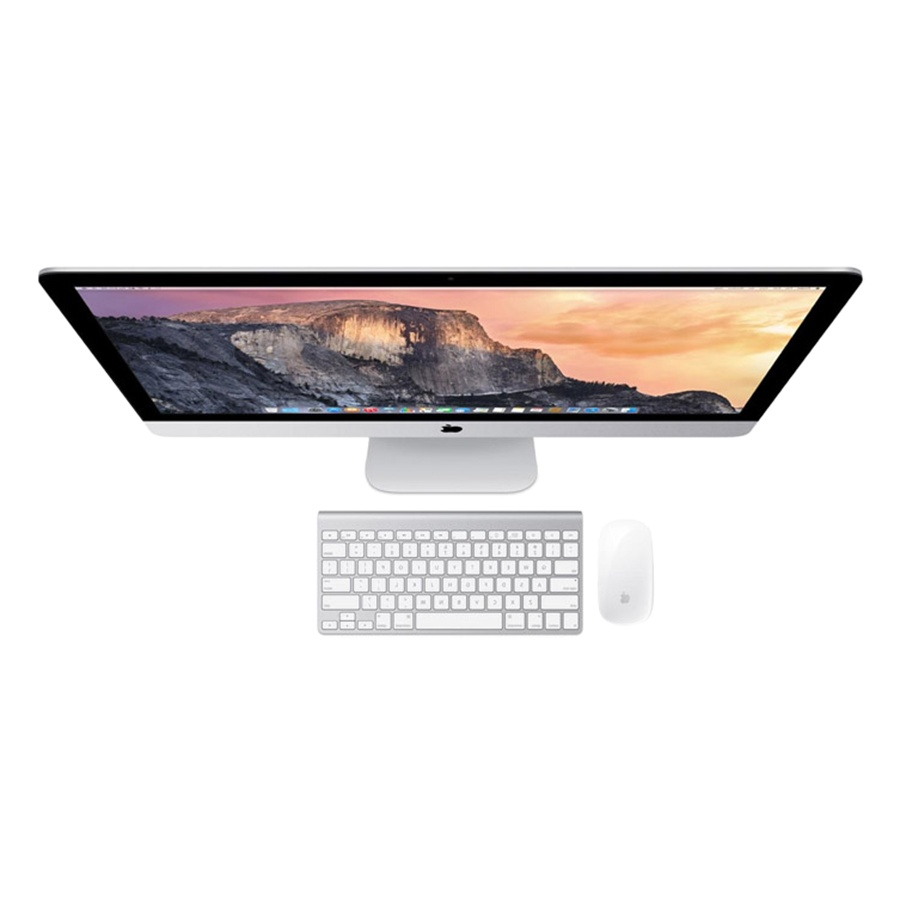Apple: (551, 508, 714, 668), (409, 366, 545, 504)
